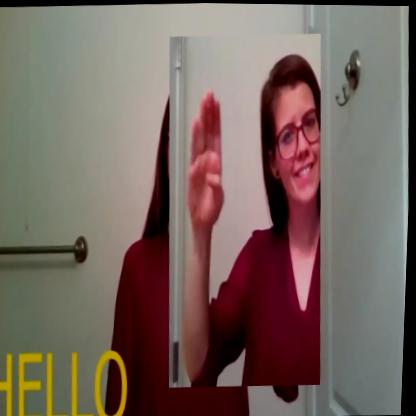Hello: (160, 31, 333, 389)
